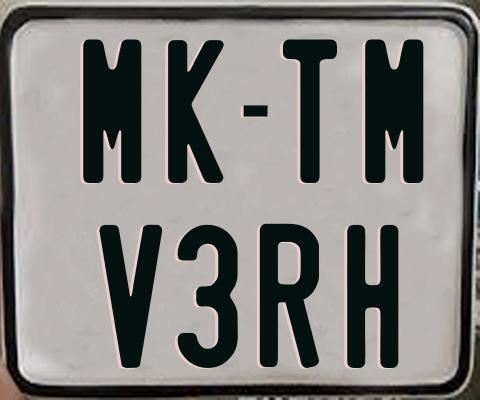3: (178, 223, 242, 371)
H: (345, 225, 403, 372)
K: (168, 37, 228, 181)
M: (362, 39, 425, 185), (81, 38, 140, 185)
R: (260, 223, 324, 371)
T: (280, 39, 340, 186)
V: (96, 222, 159, 365)
